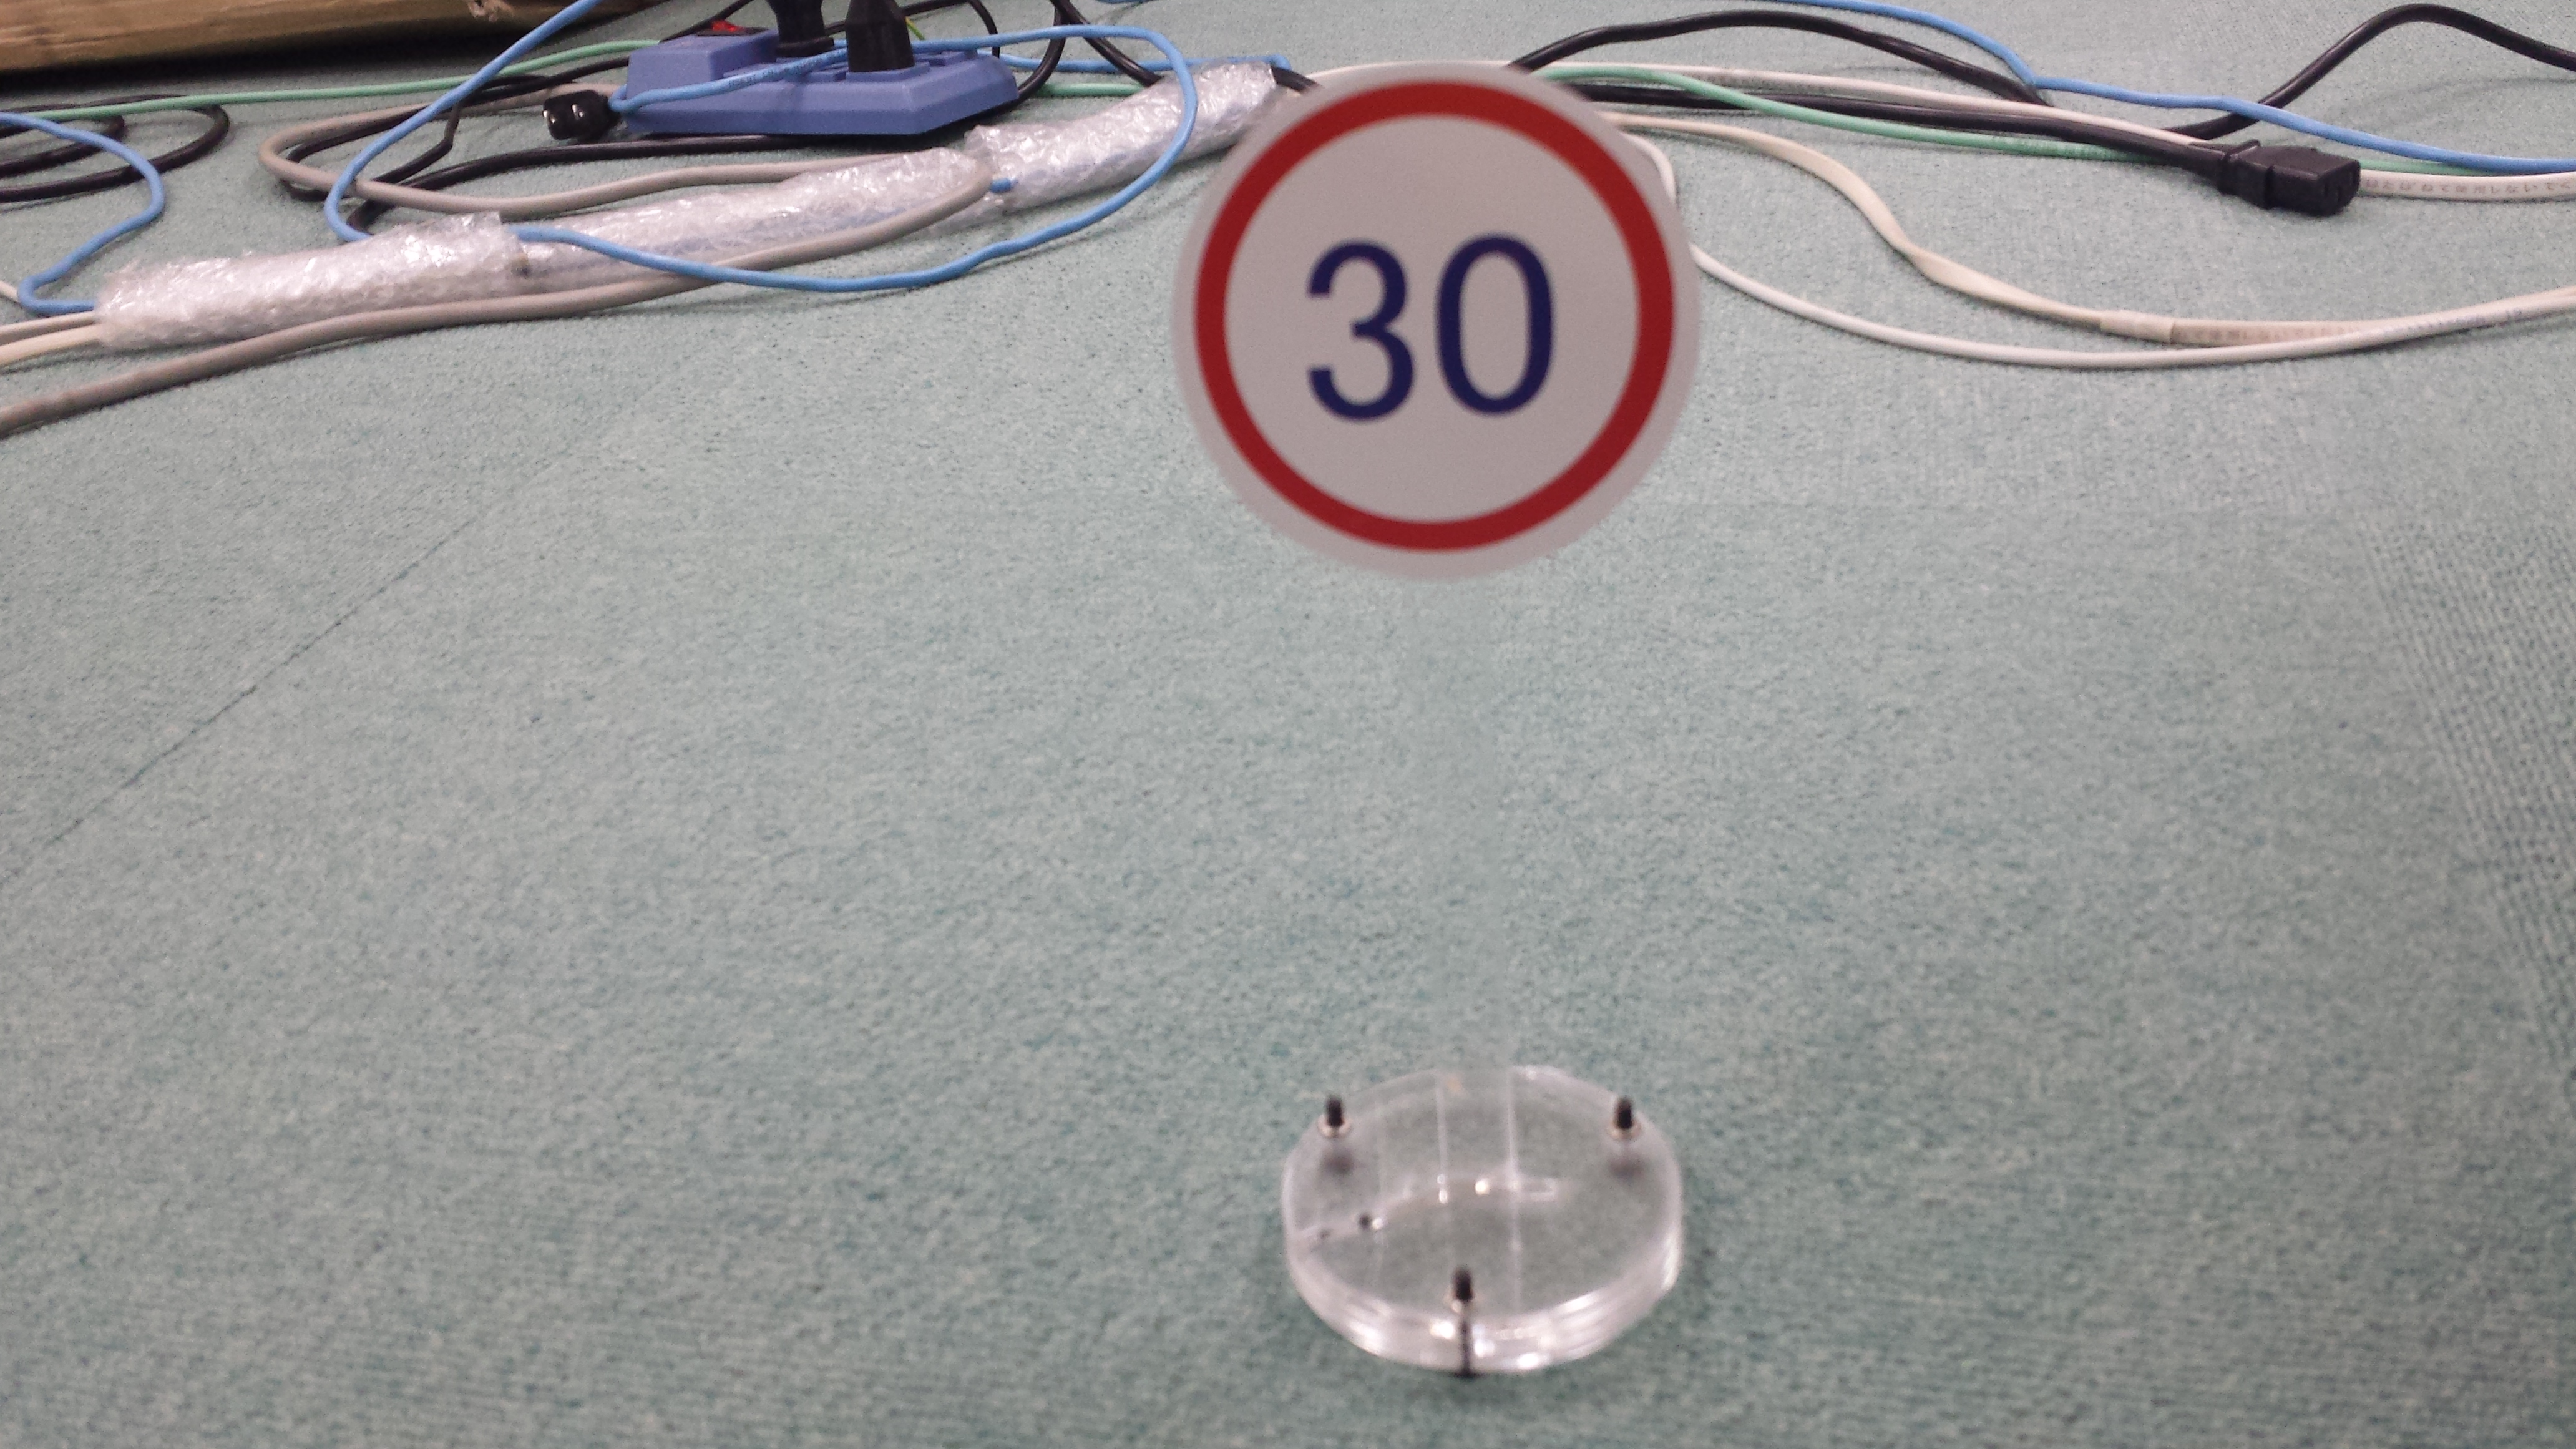speed_30: (1169, 53, 1704, 575)
